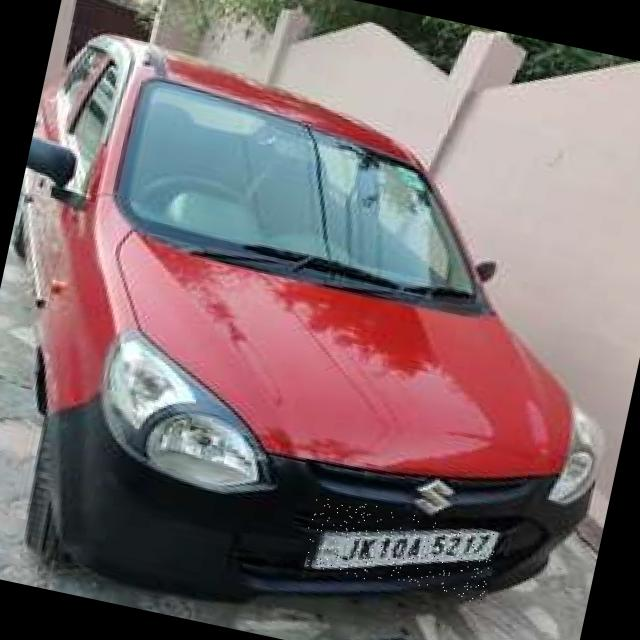Plate: (300, 494, 501, 606)
